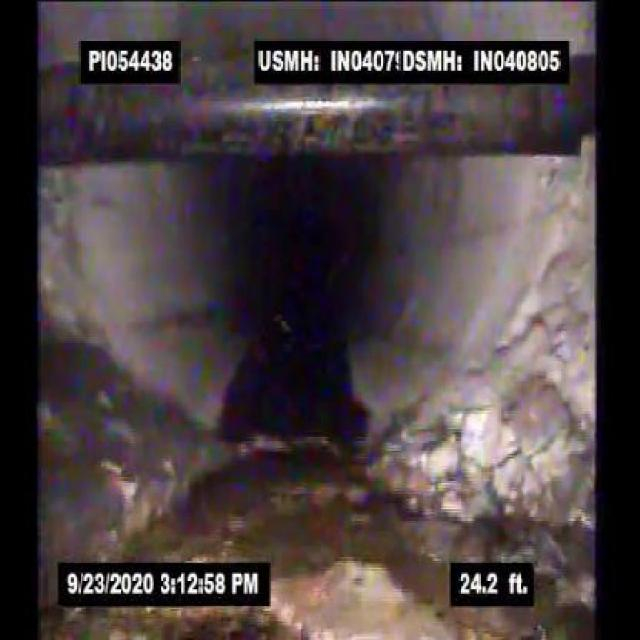Utility intrusion: (38, 88, 596, 215)
